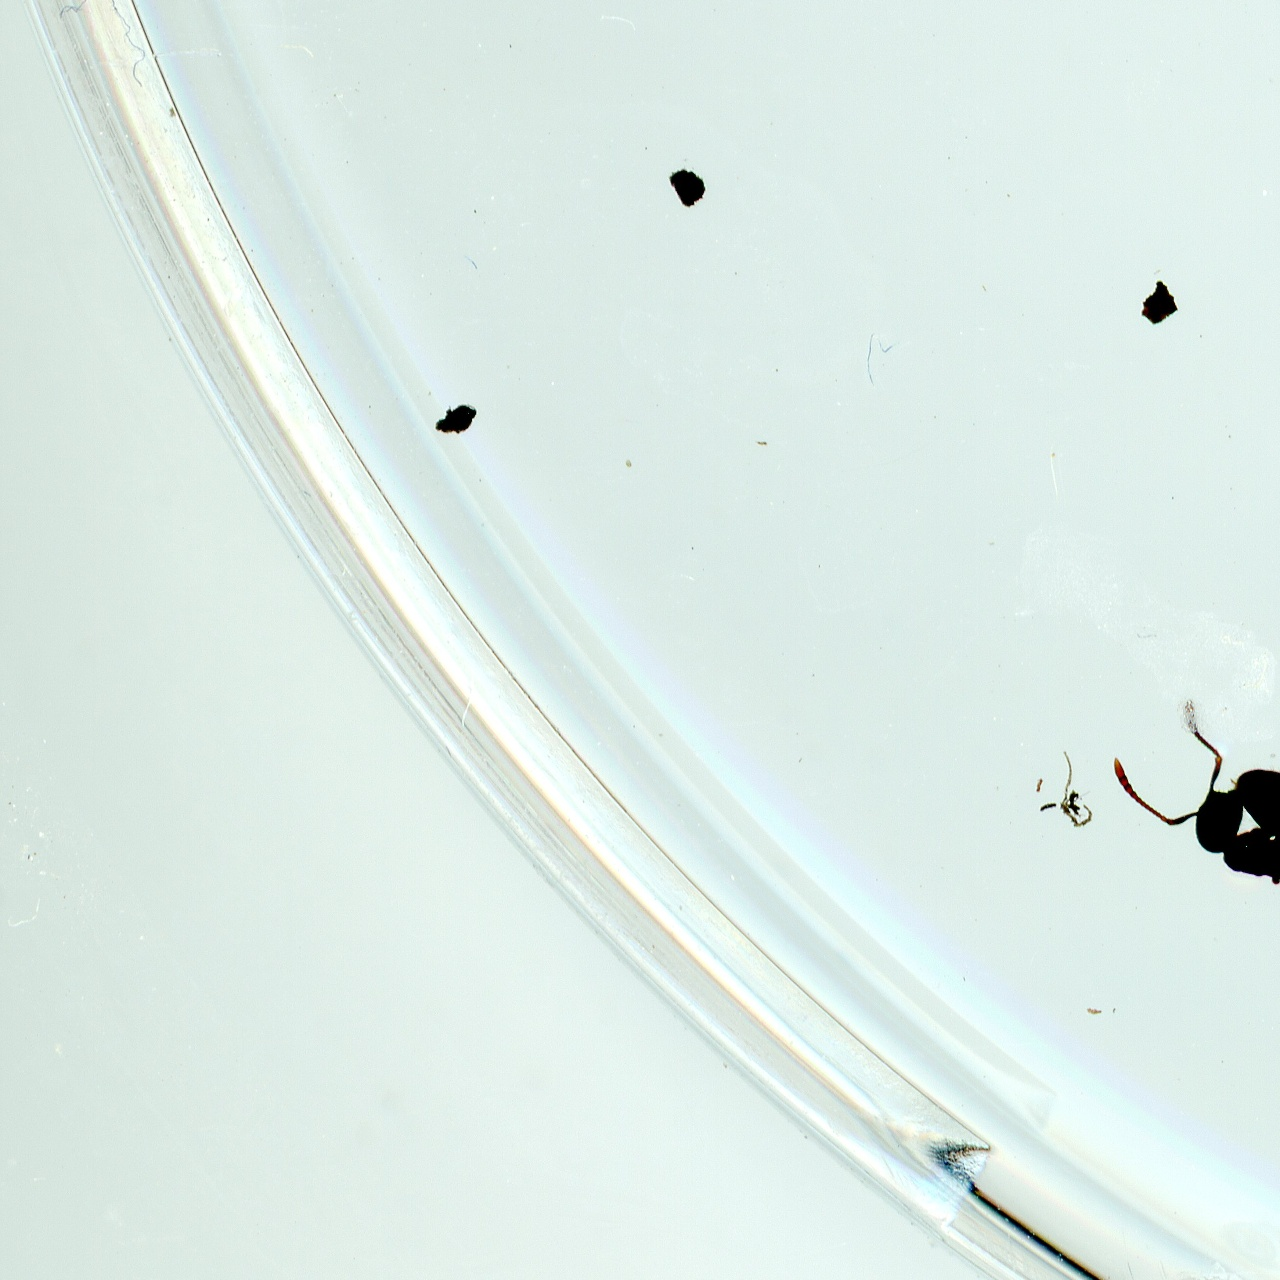arthropod: (1083, 647, 1280, 971)
